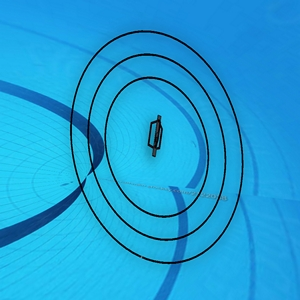circle: (69, 31, 244, 264)
submarine: (147, 114, 165, 156)
